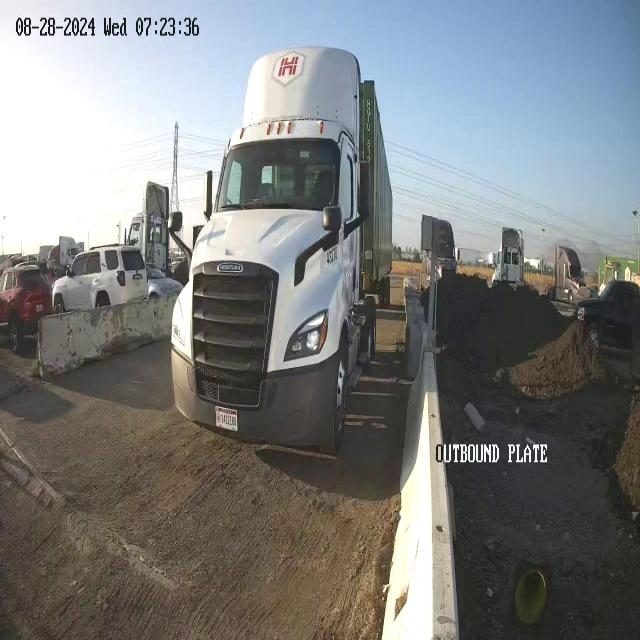CONTAINER: (349, 44, 394, 300)
